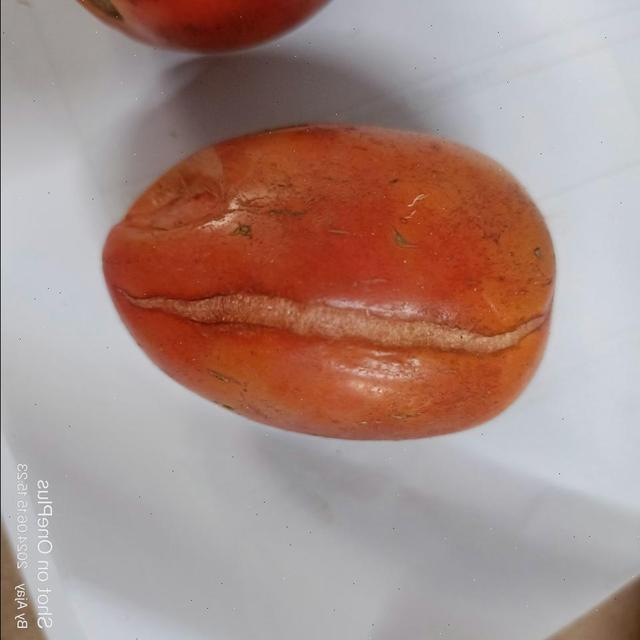Cracking Fruit: (93, 93, 175, 294)
